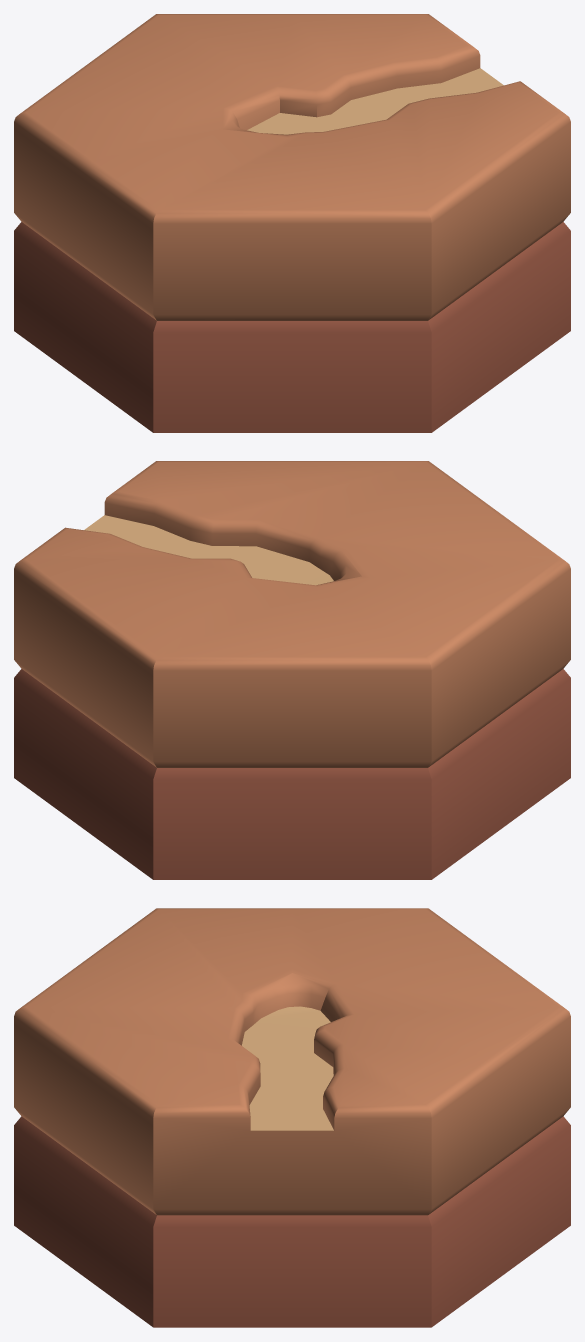
Rendered from kaykit-hex-rock-roada-detail.glb.
The picture shows the model from 3 angles, top to bottom: view 1: azimuth 30°, elevation 25°; view 2: azimuth 150°, elevation 25°; view 3: azimuth 270°, elevation 25°; orthographic projection.
Parts seen in each view (by area): view 1: hex_rock_roadA_detail; view 2: hex_rock_roadA_detail; view 3: hex_rock_roadA_detail.
Boxes of the visible parts, x1,y1,x2,y2 form: hex_rock_roadA_detail: (14,14,570,432); hex_rock_roadA_detail: (14,461,570,879); hex_rock_roadA_detail: (14,908,570,1327).
Size of the model in its own units: 2 by 1 by 2.31.
